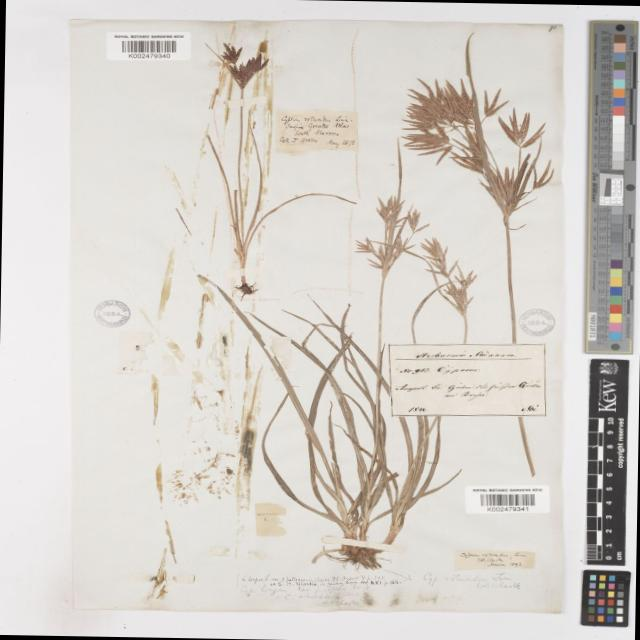cyperus: (390, 72, 560, 212), (349, 195, 486, 312), (204, 38, 276, 92)
